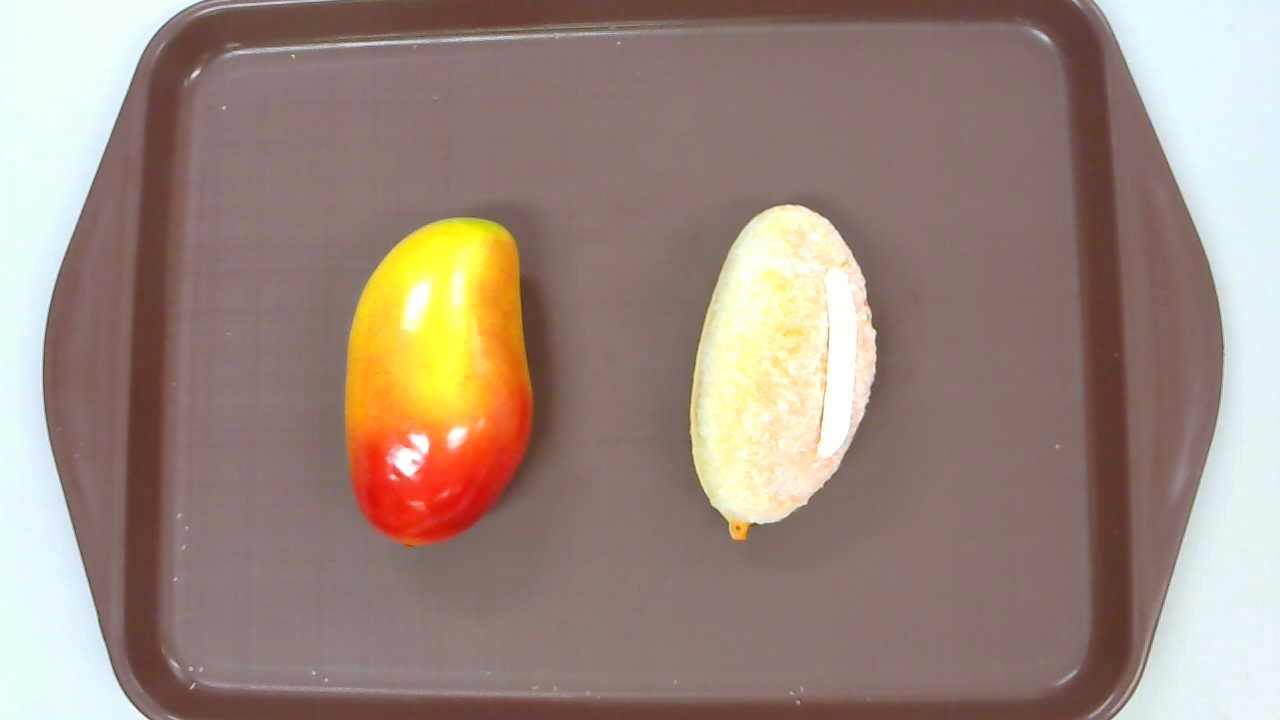coconut: (689, 203, 877, 541)
red mango: (344, 217, 535, 547)
